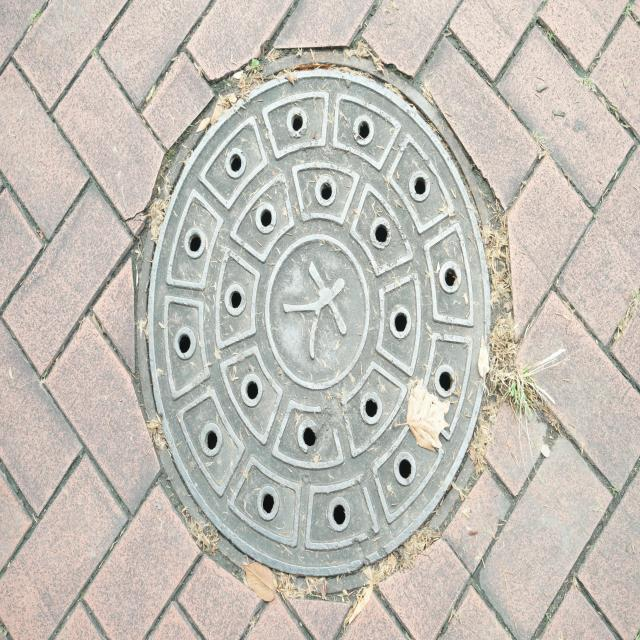manhole: (136, 52, 492, 576)
